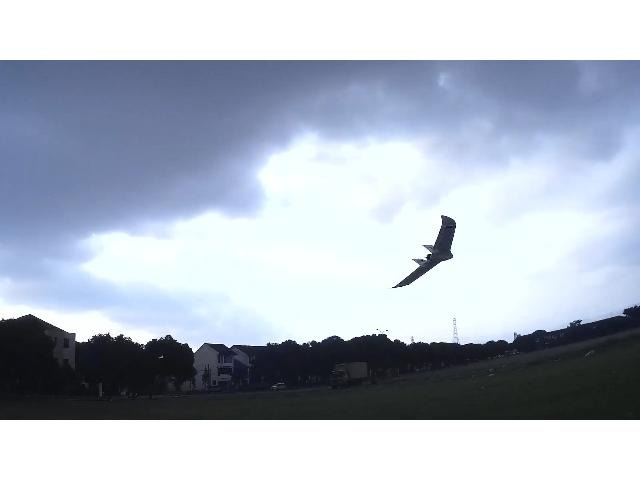Anti-Drone: (392, 216, 456, 288)
